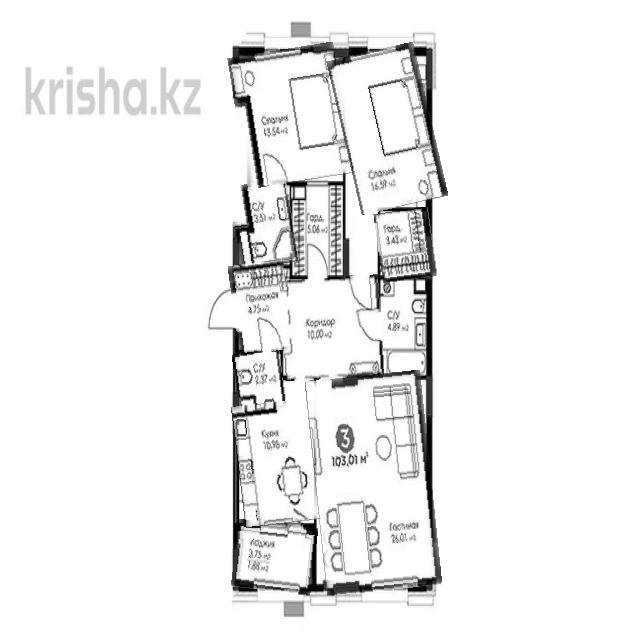balcony: (233, 522, 317, 594)
bathroom: (230, 180, 296, 268), (379, 277, 429, 377), (234, 350, 285, 412)
hallway: (281, 276, 382, 380), (231, 261, 293, 353)
kitchen: (234, 401, 318, 526)
living_room: (310, 373, 437, 594), (335, 46, 440, 212), (232, 45, 349, 186)
other: (376, 208, 435, 282)
